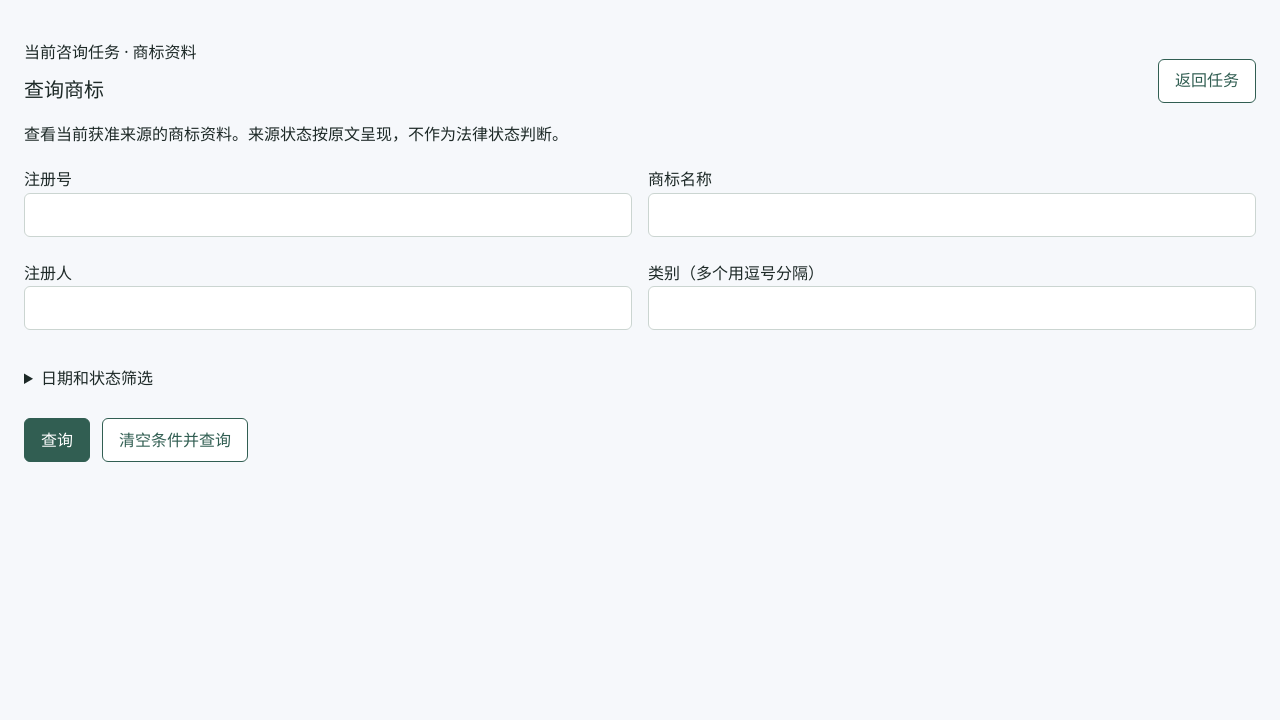
trademark filter, exact-version and current-display boundaries › permission failure 403 clears an already displayed result
Click the button "查询": (57, 440) [24,418,90,462]
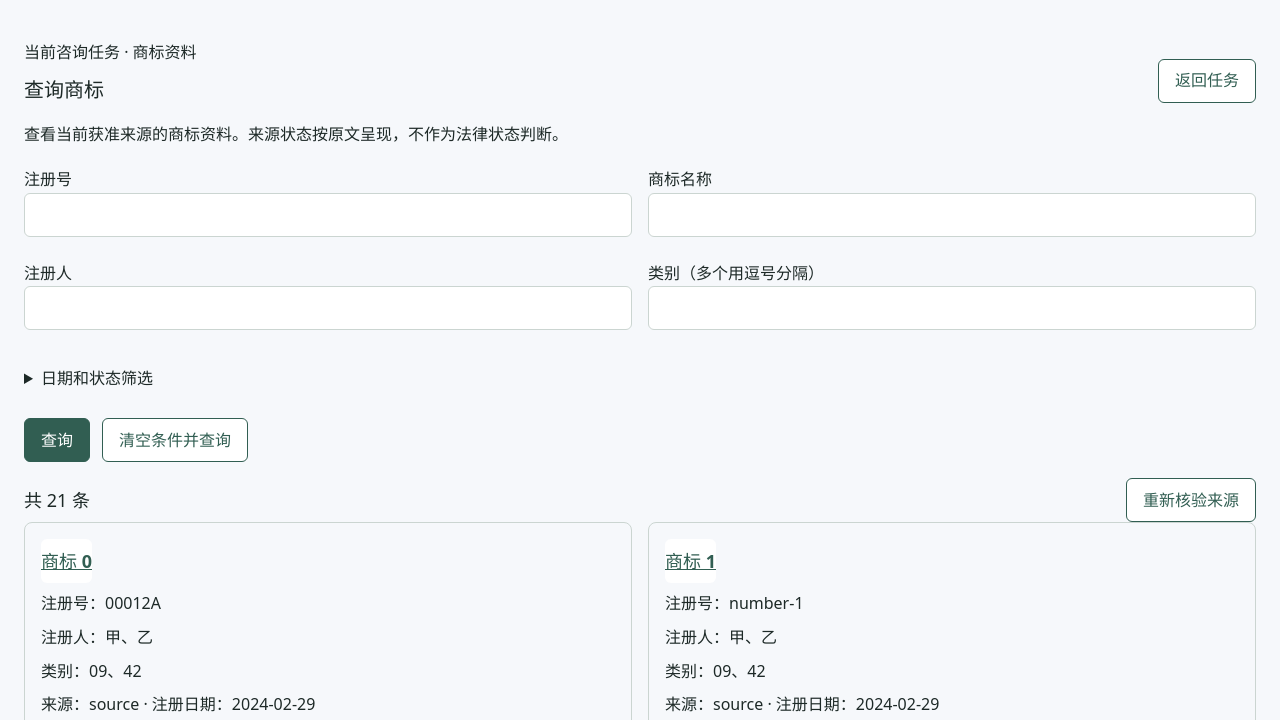
Check: the heading "共 21 条" is shown, box [24,486,90,515]
Click the button "重新核验来源": (1191, 500) [1126,478,1256,522]
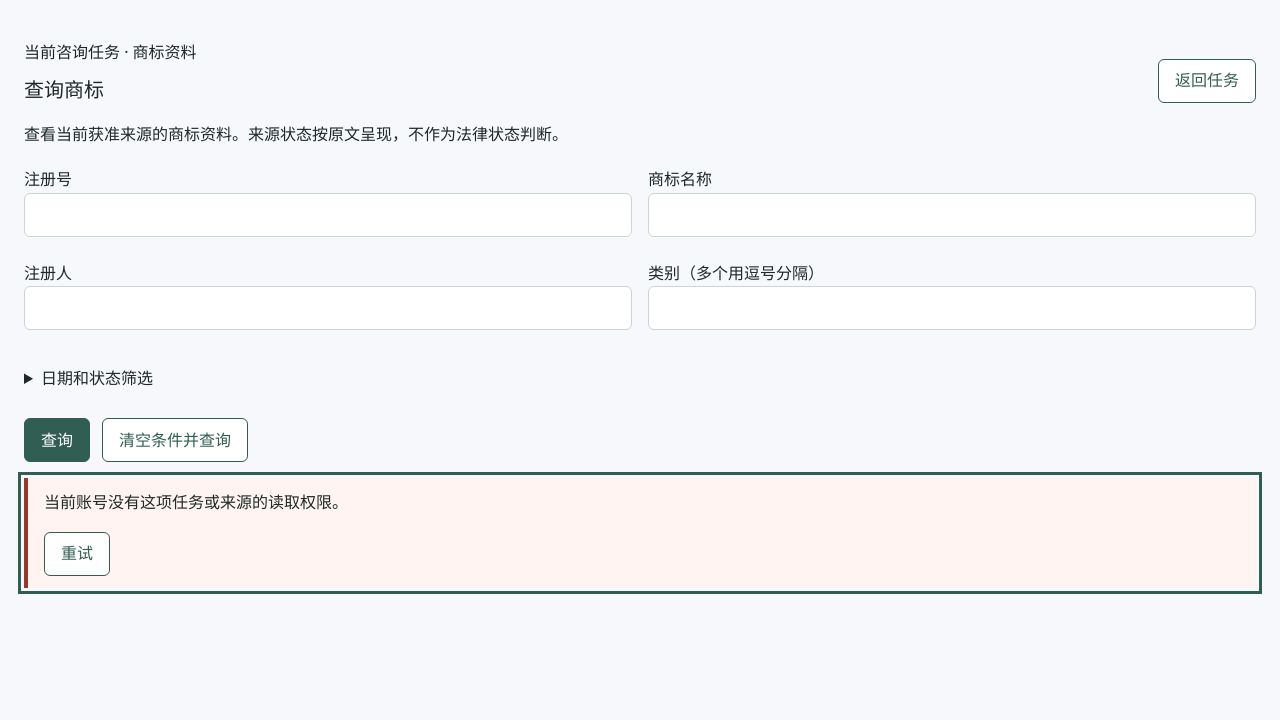
Check: the message "当前账号没有这项任务或来源的读取权限。 重试" is shown, box [24,478,1256,588]
